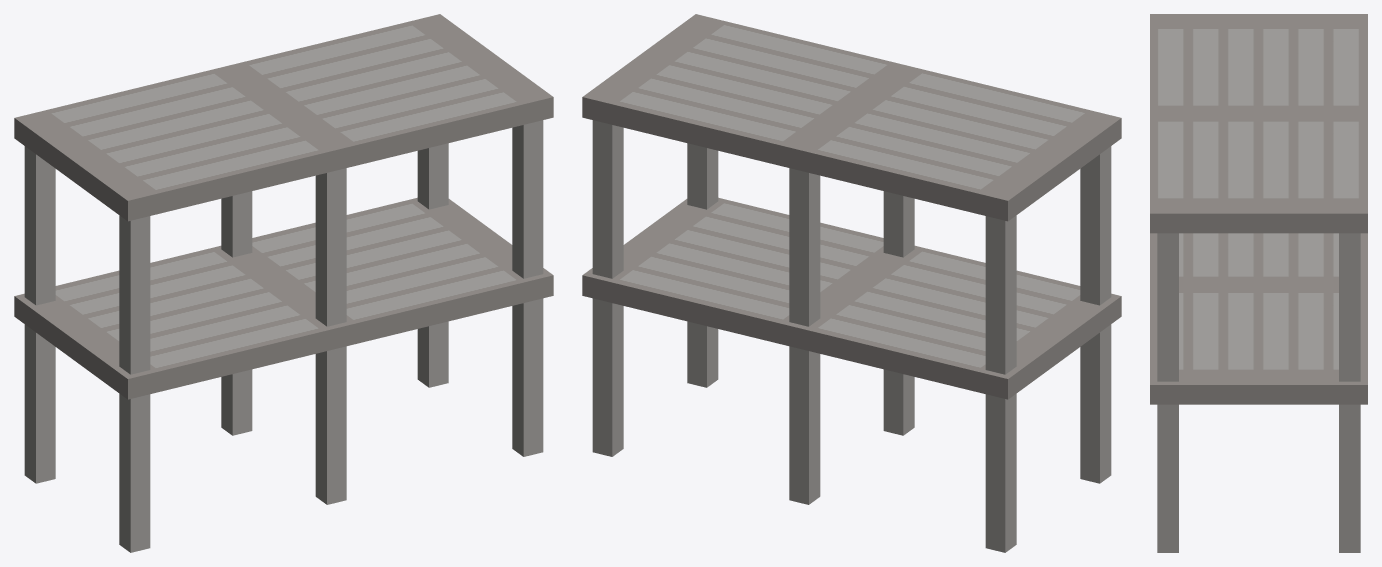
Rendered from Steam_Prop_Shelves.FBX.
3 views of the same model, side by side, from view 1: azimuth 30°, elevation 25°; view 2: azimuth 150°, elevation 25°; view 3: azimuth 270°, elevation 25° (orthographic). The views are drawn at different scales.
Visible parts, largest first — view 1: Scaffold_017.002, Scaffold_017.001, Scaffold_003.009, Scaffold_003.004, Scaffold_003.007, Scaffold_003.006, Scaffold_003.005, Scaffold_003.008, Scaffold_003.003, Scaffold_003.010, Scaffold_003.012, Scaffold_003.001 (+2 smaller); view 2: Scaffold_017.002, Scaffold_017.001, Scaffold_003.010, Scaffold_003.003, Scaffold_003.011, Scaffold_003.002, Scaffold_003.001, Scaffold_003.012, Scaffold_003.004, Scaffold_003.009, Scaffold_003.008, Scaffold_003.005 (+2 smaller); view 3: Scaffold_017.002, Scaffold_017.001, Scaffold_003.011, Scaffold_003.007, Scaffold_003.006, Scaffold_003.002.
Part boxes in pixels (box(x1,y1,x2,y2)): Scaffold_017.002: box(14, 14, 553, 221); Scaffold_017.001: box(14, 197, 553, 399); Scaffold_003.009: box(119, 215, 150, 374); Scaffold_003.004: box(119, 394, 150, 552); Scaffold_003.007: box(512, 120, 543, 278); Scaffold_003.006: box(512, 298, 543, 456); Scaffold_003.005: box(315, 346, 346, 504); Scaffold_003.008: box(315, 168, 346, 326); Scaffold_003.003: box(24, 324, 55, 483); Scaffold_003.010: box(24, 146, 55, 305); Scaffold_003.012: box(221, 191, 252, 257); Scaffold_003.001: box(221, 369, 252, 435); Scaffold_017.002: box(582, 14, 1121, 221); Scaffold_017.001: box(582, 197, 1121, 399); Scaffold_003.010: box(985, 215, 1016, 374); Scaffold_003.003: box(985, 394, 1016, 552); Scaffold_003.011: box(592, 120, 623, 278); Scaffold_003.002: box(592, 298, 623, 456); Scaffold_003.001: box(789, 346, 820, 504); Scaffold_003.012: box(789, 168, 820, 326); Scaffold_003.004: box(1080, 324, 1111, 483); Scaffold_003.009: box(1080, 146, 1111, 305); Scaffold_003.008: box(883, 191, 914, 257); Scaffold_003.005: box(883, 369, 914, 435); Scaffold_017.002: box(1150, 14, 1367, 233); Scaffold_017.001: box(1150, 233, 1367, 404); Scaffold_003.011: box(1339, 233, 1360, 381); Scaffold_003.007: box(1157, 233, 1178, 381); Scaffold_003.006: box(1157, 404, 1178, 552); Scaffold_003.002: box(1339, 404, 1360, 552).
Size of the model in its own units: 6.5 by 5.2 by 3.
1 material, 1 textured.
